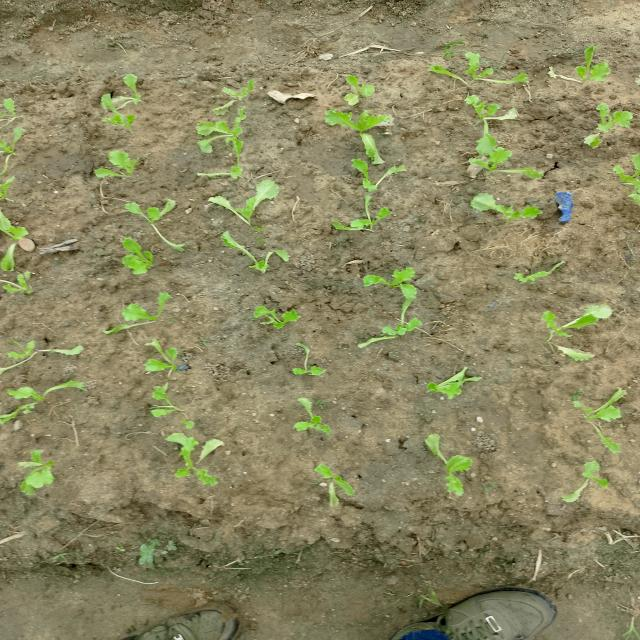Lettuce: (2, 375, 77, 431), (324, 94, 393, 152), (564, 386, 640, 438), (208, 175, 278, 229), (532, 307, 610, 354), (418, 437, 476, 500), (165, 428, 225, 487), (424, 55, 512, 93), (100, 288, 166, 334), (567, 101, 635, 145), (221, 232, 289, 275), (7, 444, 62, 494), (115, 198, 188, 235), (562, 458, 610, 514), (462, 94, 512, 147), (467, 149, 547, 179), (309, 461, 359, 507), (290, 387, 334, 439), (334, 158, 399, 193), (333, 203, 388, 244), (110, 228, 156, 276), (8, 336, 63, 376), (187, 117, 246, 154), (354, 266, 418, 300), (98, 97, 142, 144), (280, 339, 330, 379), (427, 366, 475, 406), (473, 195, 533, 226), (348, 324, 432, 346), (571, 42, 610, 88), (253, 304, 307, 336), (144, 339, 182, 380), (95, 149, 138, 185), (0, 208, 30, 259), (3, 268, 42, 307), (153, 386, 189, 424), (611, 156, 640, 203), (218, 80, 259, 112), (116, 76, 150, 114), (0, 125, 27, 158), (0, 170, 22, 202), (2, 97, 22, 122)
